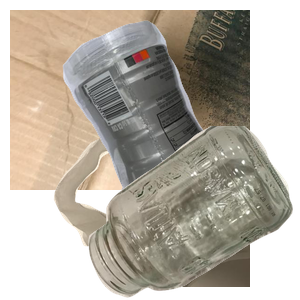cardboard: (10, 10, 250, 190)
glass: (86, 126, 300, 300)
plastic: (60, 18, 300, 198)
trash: (51, 120, 291, 300)
